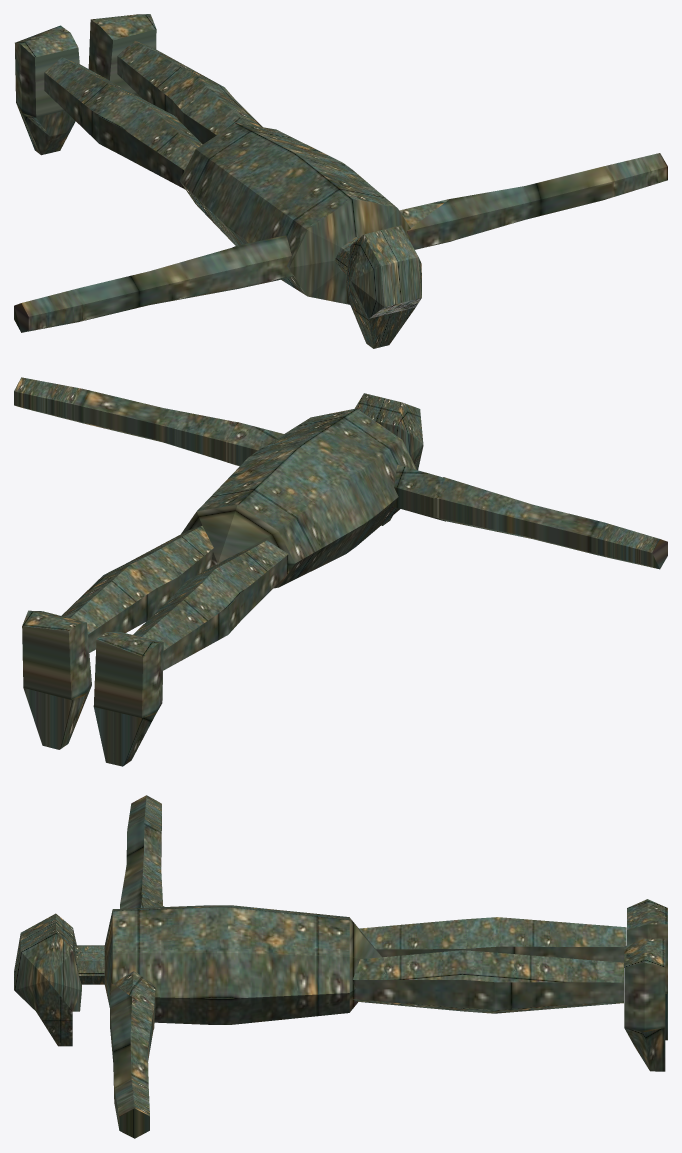
Rendered from robothead_wtf.obj.
3 renders of one model, top to bottom at view 1: azimuth 30°, elevation 25°; view 2: azimuth 150°, elevation 25°; view 3: azimuth 270°, elevation 25°, orthographic.
Parts seen in each view (by area): view 1: group1, group4; view 2: group1, group4; view 3: group1, group4.
Part boxes in pixels (left/top/right/bottom): group1: left=14, top=14, right=667, bottom=348; group4: left=179, top=149, right=410, bottom=304; group1: left=14, top=377, right=667, bottom=766; group4: left=181, top=440, right=416, bottom=588; group1: left=14, top=795, right=667, bottom=1138; group4: left=104, top=910, right=381, bottom=1024.
Bounding box in the file's own units: 660 × 144 × 582.
